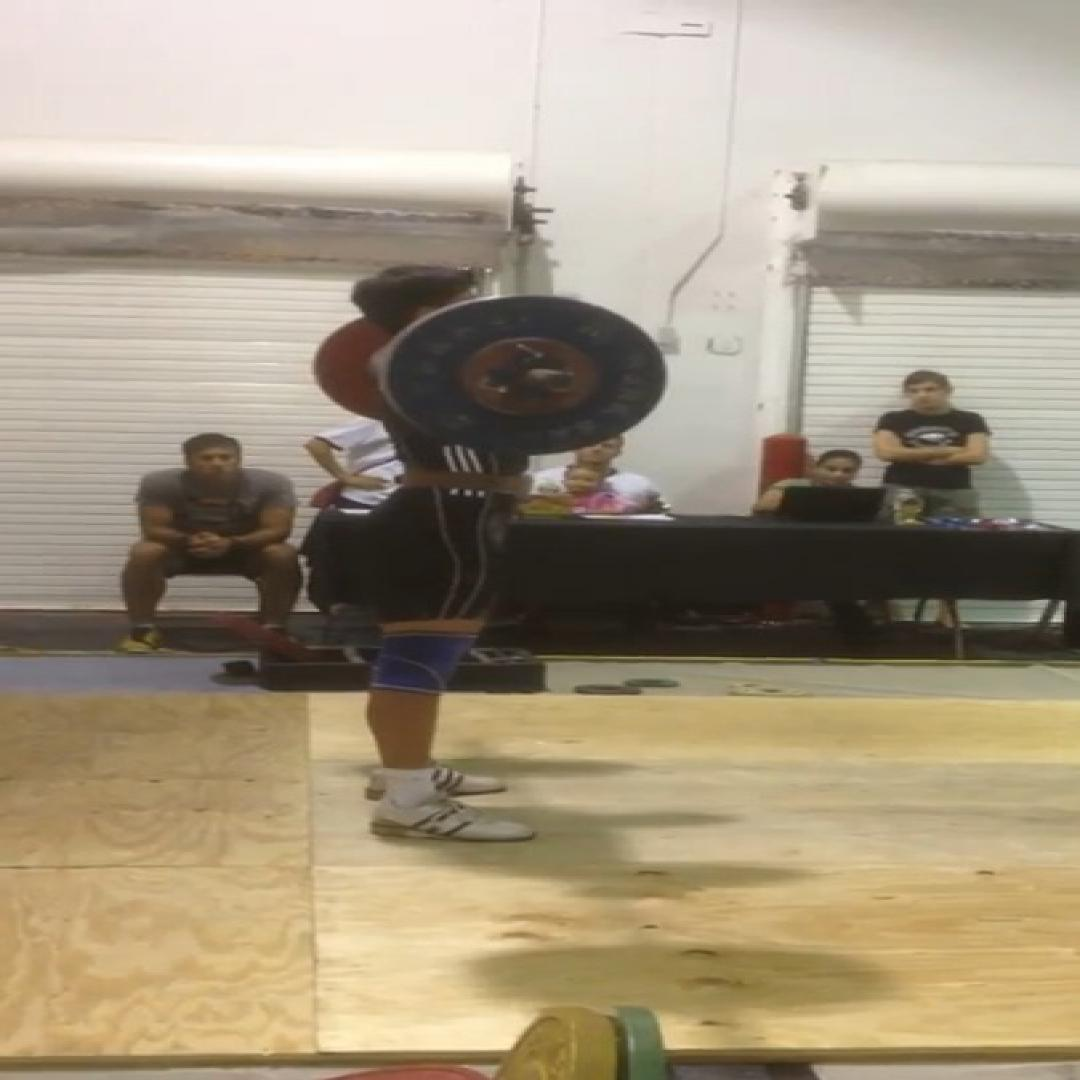Bar: (542, 372, 574, 392)
Barbell: (388, 297, 665, 453)
